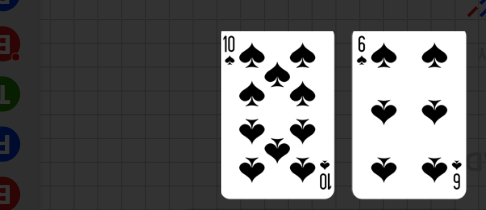10S: (222, 34, 237, 68)
6S: (450, 157, 463, 191)
